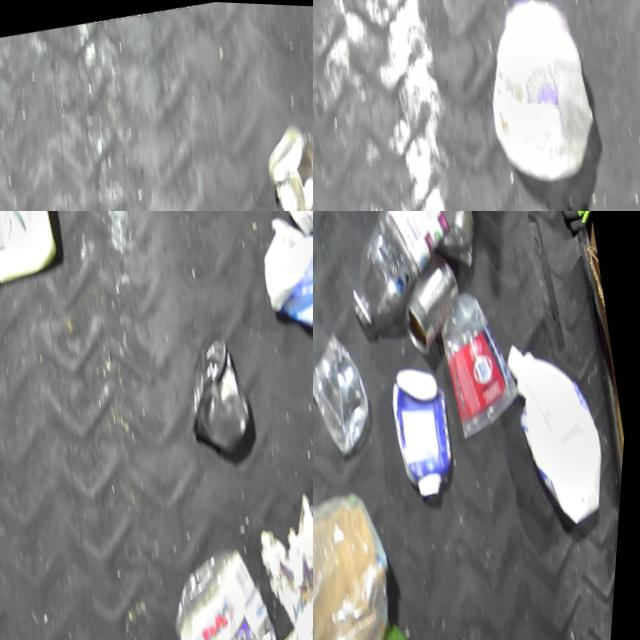can: (390, 241, 476, 356), (255, 110, 313, 211), (278, 211, 313, 236)
milk_jug: (467, 0, 614, 190), (495, 320, 626, 529)
plastic_bottle: (322, 211, 481, 330)
